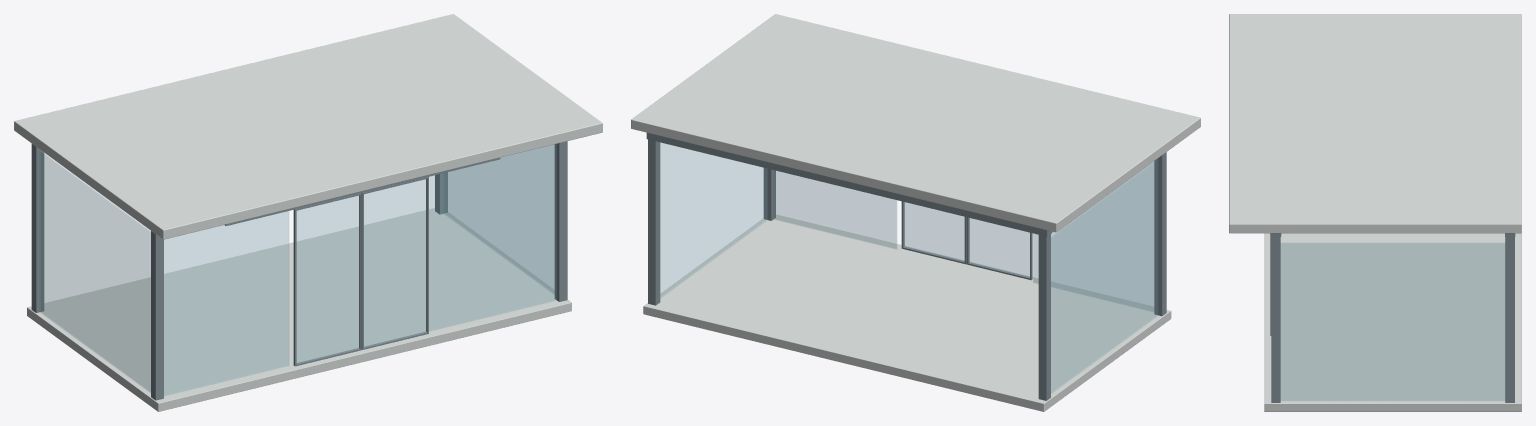
The picture shows the model from 3 angles, left to right: view 1: azimuth 30°, elevation 25°; view 2: azimuth 150°, elevation 25°; view 3: azimuth 270°, elevation 25°; orthographic projection. The views are drawn at different scales.
Visible parts, largest first — view 1: CANOPY, FLOOR, FRONT_FixedPane.001, FRONT_FixedPane, WALL_ClearSide, WALL_ClearSide.001, DOOR_Clear.001, DOOR_Clear, FRAME_Column.001, FRAME_Column.002, FRAME_Column, DOOR_Track (+1 smaller); view 2: CANOPY, FLOOR, WALL_ClearSide, WALL_ClearSide.001, FRONT_FixedPane, FRONT_FixedPane.001, HEADER.001, DOOR_Clear.001, DOOR_Clear, FRAME_Column.001, FRAME_Column.003, FRAME_Column (+1 smaller); view 3: CANOPY, FLOOR, WALL_ClearSide.001, FRAME_Column.002, FRAME_Column.003.
Part boxes in pixels (left/top/right/bottom): CANOPY: left=14, top=14, right=602, bottom=239; FLOOR: left=27, top=208, right=571, bottom=411; FRONT_FixedPane.001: left=429, top=144, right=556, bottom=330; FRONT_FixedPane: left=164, top=211, right=288, bottom=395; WALL_ClearSide: left=40, top=151, right=150, bottom=392; WALL_ClearSide.001: left=444, top=145, right=553, bottom=293; DOOR_Clear.001: left=364, top=179, right=426, bottom=346; DOOR_Clear: left=297, top=195, right=359, bottom=363; FRAME_Column.001: left=31, top=144, right=44, bottom=312; FRAME_Column.002: left=554, top=141, right=567, bottom=301; FRAME_Column: left=151, top=231, right=163, bottom=400; DOOR_Track: left=225, top=157, right=500, bottom=225; CANOPY: left=631, top=14, right=1200, bottom=232; FLOOR: left=643, top=214, right=1171, bottom=411; WALL_ClearSide: left=1051, top=159, right=1157, bottom=393; WALL_ClearSide.001: left=660, top=143, right=767, bottom=297; FRONT_FixedPane: left=1033, top=162, right=1153, bottom=311; FRONT_FixedPane.001: left=774, top=170, right=896, bottom=249; HEADER.001: left=646, top=132, right=1052, bottom=236; DOOR_Clear.001: left=904, top=202, right=964, bottom=261; DOOR_Clear: left=969, top=218, right=1029, bottom=277; FRAME_Column.001: left=1038, top=234, right=1050, bottom=400; FRAME_Column.003: left=648, top=139, right=660, bottom=305; FRAME_Column: left=1154, top=152, right=1166, bottom=316; CANOPY: left=1229, top=14, right=1521, bottom=233; FLOOR: left=1264, top=233, right=1521, bottom=411; WALL_ClearSide.001: left=1281, top=243, right=1504, bottom=400; FRAME_Column.002: left=1271, top=237, right=1280, bottom=402; FRAME_Column.003: left=1505, top=237, right=1514, bottom=402.
Size of the model in its own units: 8.5 by 3.66 by 5.
